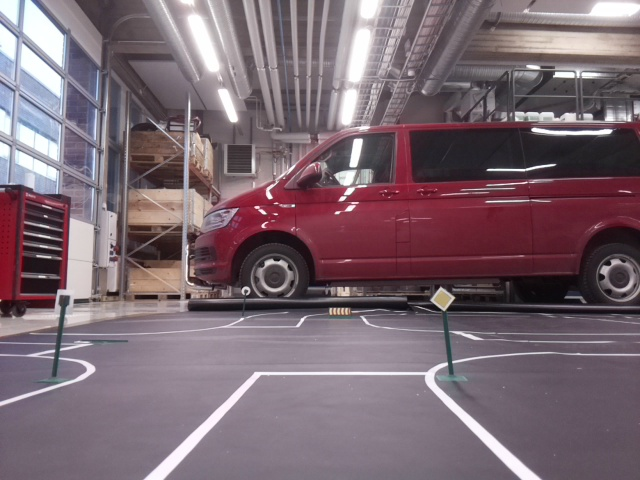Priority: (429, 287, 455, 308)
